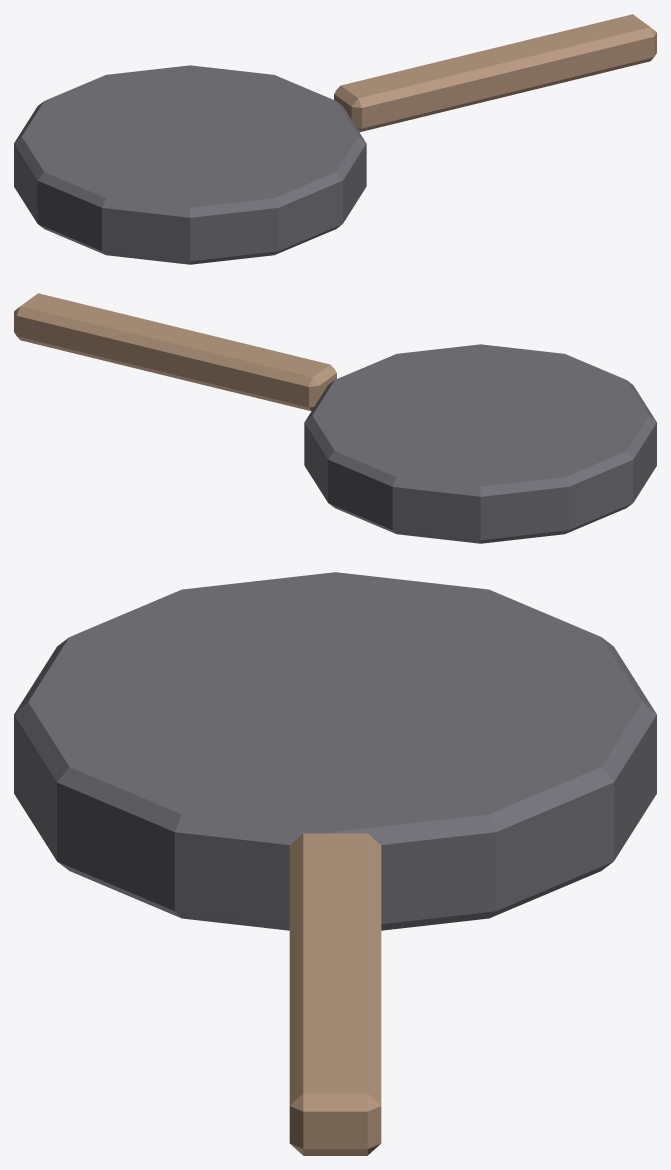
Rendered from SM_Pan.fbx.
3 renders of one model, top to bottom at view 1: azimuth 30°, elevation 25°; view 2: azimuth 150°, elevation 25°; view 3: azimuth 270°, elevation 25°, orthographic. The views are drawn at different scales.
Visible parts, largest first — view 1: Pan; view 2: Pan; view 3: Pan.
Boxes of the visible parts, x1=… form: Pan: x1=14, y1=14, x2=656, y2=264; Pan: x1=14, y1=293, x2=656, y2=543; Pan: x1=14, y1=572, x2=656, y2=1155.
Bounding box in the file's own units: 56 × 5.5 × 28.
